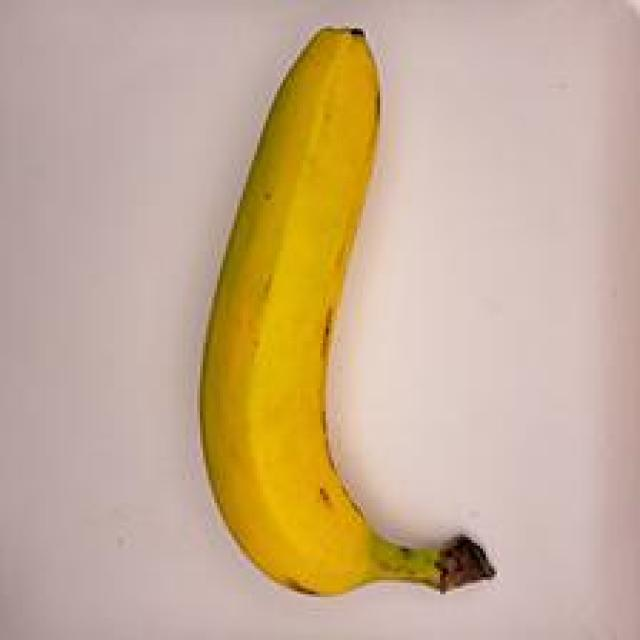Ripe: (163, 0, 507, 618)
